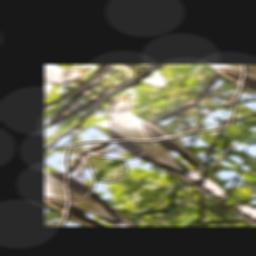Cuckoo: (81, 89, 256, 208)
